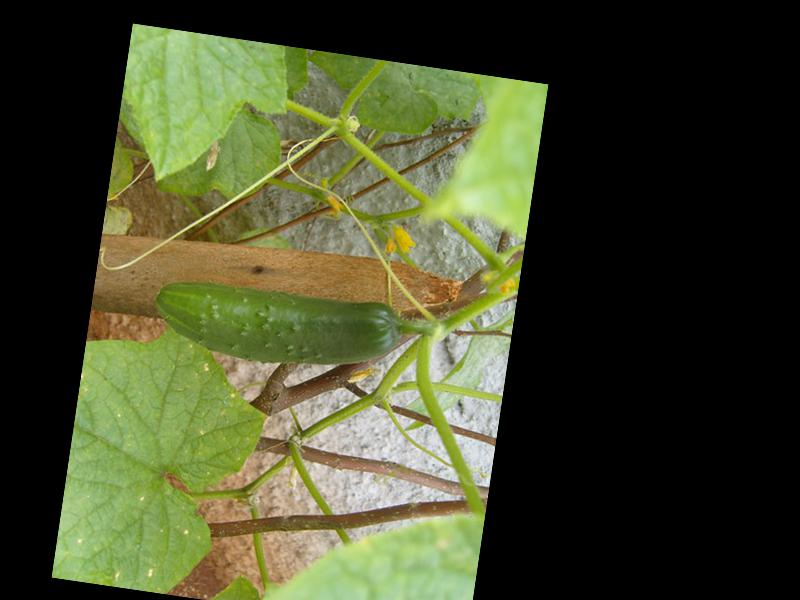Cucumber: (148, 269, 405, 381)
